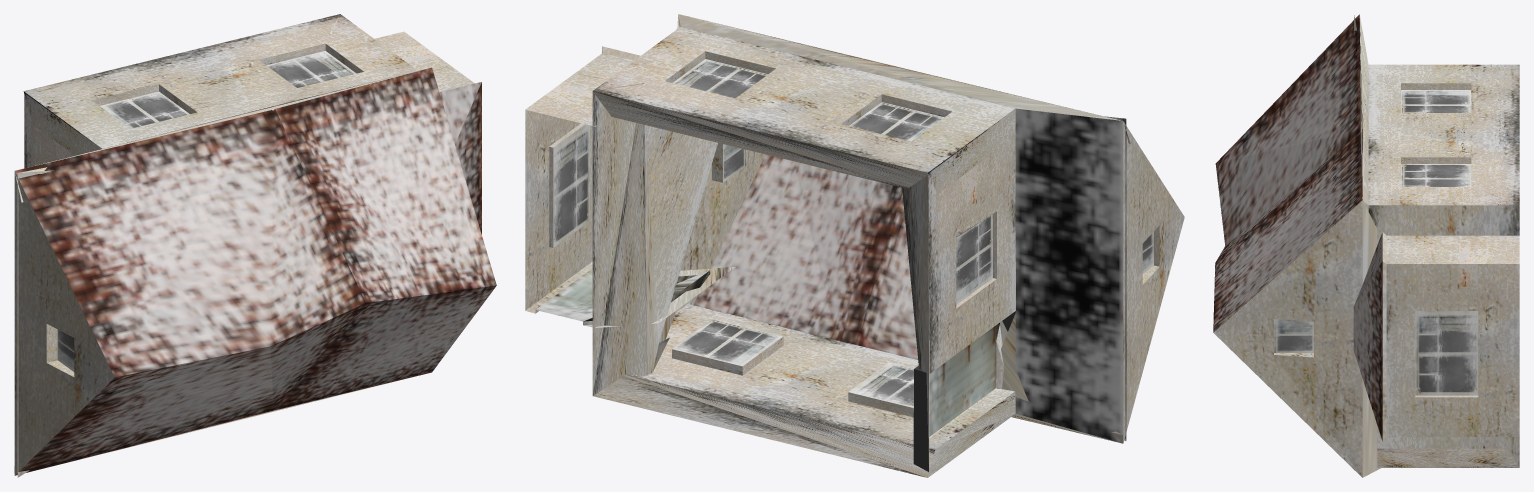
Rendered from snowdomicilewtf_wtf.obj.
3 renders of one model, left to right at view 1: azimuth 30°, elevation 25°; view 2: azimuth 150°, elevation 25°; view 3: azimuth 270°, elevation 25°, orthographic. The views are drawn at different scales.
Parts seen in each view (by area): view 1: group2; view 2: group2, group4, group3; view 3: group2.
Part boxes in pixels (<box>): group2: <box>14,14,496,477</box>; group2: <box>525,14,1184,477</box>; group4: <box>1015,108,1123,443</box>; group3: <box>536,268,678,321</box>; group2: <box>1213,14,1519,477</box>.
Size of the model in its own units: 660 by 401 by 401.
